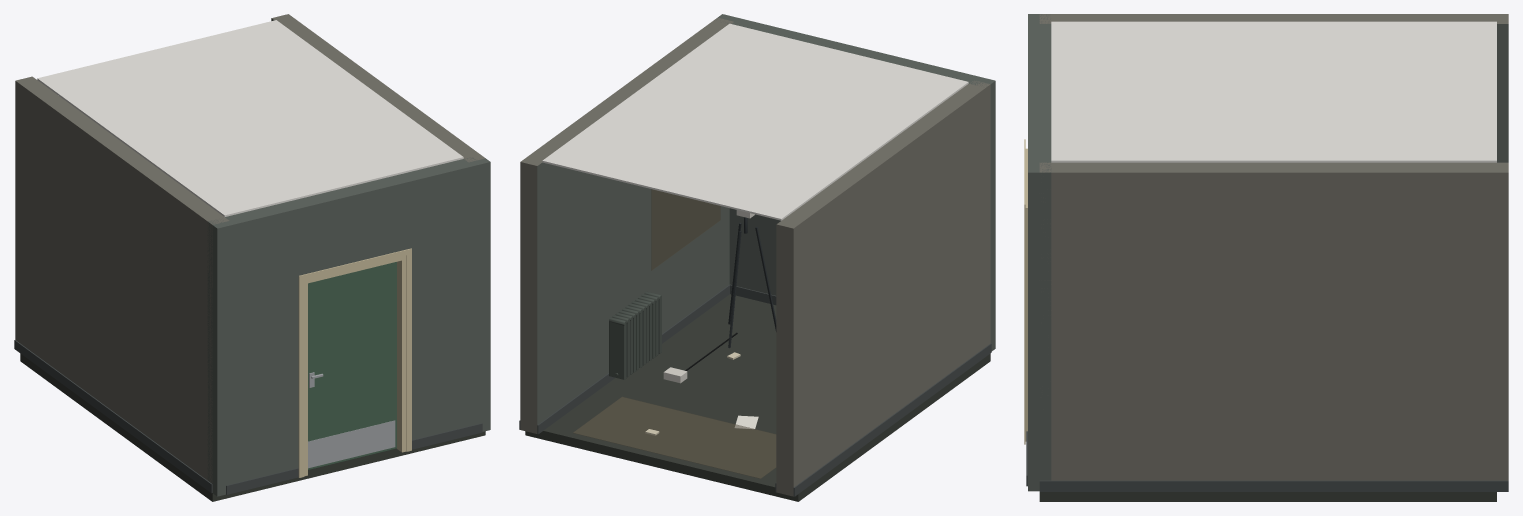
Rendered from ENV_W0_Threshold.glb.
3 renders of one model, left to right at view 1: azimuth 30°, elevation 25°; view 2: azimuth 150°, elevation 25°; view 3: azimuth 270°, elevation 25°, orthographic. The views are drawn at different scales.
Visible parts, largest first — view 1: ENV_W0_Threshold_Architecture, ENV_W0_Threshold_Ceiling, DOOR_Service_Historic_1200_Leaf, ENV_W0_Threshold_Posts, DOOR_Service_Historic_1200_Frame; view 2: ENV_W0_Threshold_Architecture, ENV_W0_Threshold_Ceiling, ENV_W0_Threshold_Decay, PROP_Radiator_Cast_Iron_Mesh, ENV_W0_Threshold_Posts, PROP_Sensor_Tripod_Modern_Mesh; view 3: ENV_W0_Threshold_Architecture, ENV_W0_Threshold_Ceiling, ENV_W0_Threshold_Posts, DOOR_Service_Historic_1200_Frame.
Boxes of the visible parts, box(x1,y1,x2,y2) form: ENV_W0_Threshold_Architecture: box(14, 14, 485, 501); ENV_W0_Threshold_Ceiling: box(37, 20, 463, 216); DOOR_Service_Historic_1200_Leaf: box(308, 262, 396, 469); ENV_W0_Threshold_Posts: box(207, 158, 490, 496); DOOR_Service_Historic_1200_Frame: box(298, 248, 411, 477); ENV_W0_Threshold_Architecture: box(519, 16, 991, 501); ENV_W0_Threshold_Ceiling: box(542, 23, 968, 220); ENV_W0_Threshold_Decay: box(573, 189, 776, 478); PROP_Radiator_Cast_Iron_Mesh: box(609, 291, 661, 379); ENV_W0_Threshold_Posts: box(716, 14, 995, 351); PROP_Sensor_Tripod_Modern_Mesh: box(663, 210, 776, 383); ENV_W0_Threshold_Architecture: box(1026, 14, 1508, 501); ENV_W0_Threshold_Ceiling: box(1051, 21, 1496, 162); ENV_W0_Threshold_Posts: box(1028, 14, 1051, 491); DOOR_Service_Historic_1200_Frame: box(1024, 139, 1027, 444).
Size of what is drawn, in the model's own units: 3.22 by 3.12 by 4.13.
